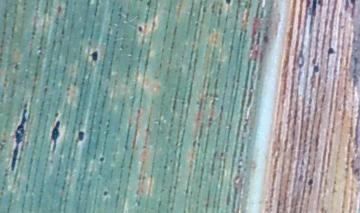tarspot: (12, 106, 29, 169), (51, 120, 61, 151), (307, 1, 323, 16), (76, 130, 86, 142), (260, 34, 270, 45), (90, 50, 99, 62), (327, 46, 336, 55), (136, 25, 144, 34), (313, 65, 320, 74), (307, 177, 314, 186), (53, 110, 60, 118), (98, 155, 106, 162), (102, 190, 110, 196), (349, 1, 357, 6), (225, 1, 233, 5)
